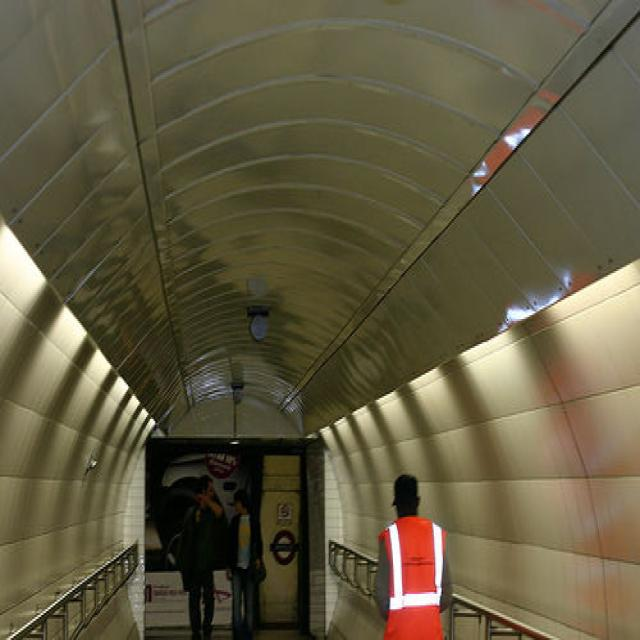person: (371, 470, 455, 639), (176, 472, 225, 639), (225, 487, 265, 639)
